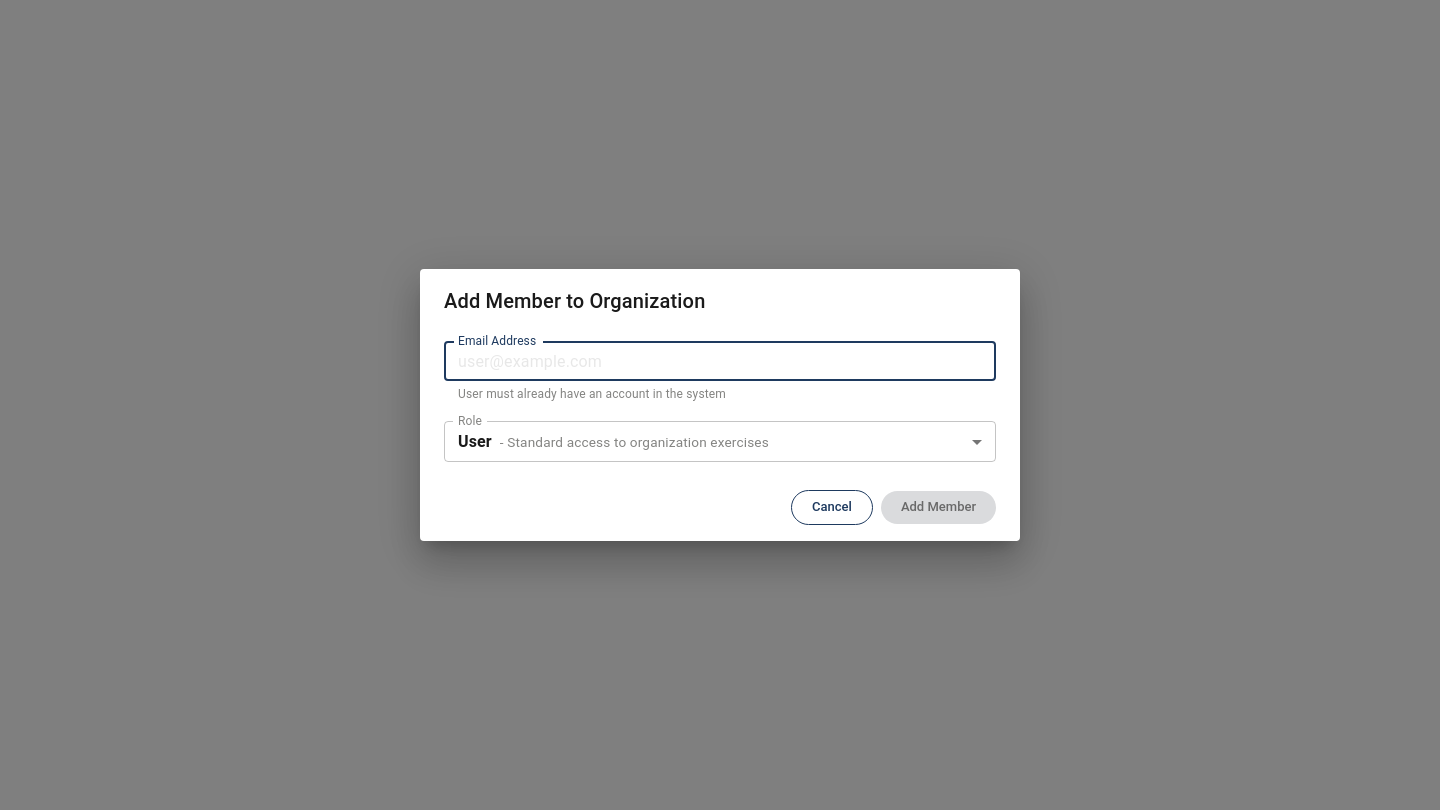
AddMemberDialog › Dialog Close › clears error when dialog is closed
Note: Trigger validation error with invalid email
In the field labelled "Email Address": (720, 361) x1=444 y1=341 x2=996 y2=381, type "invalidemail"
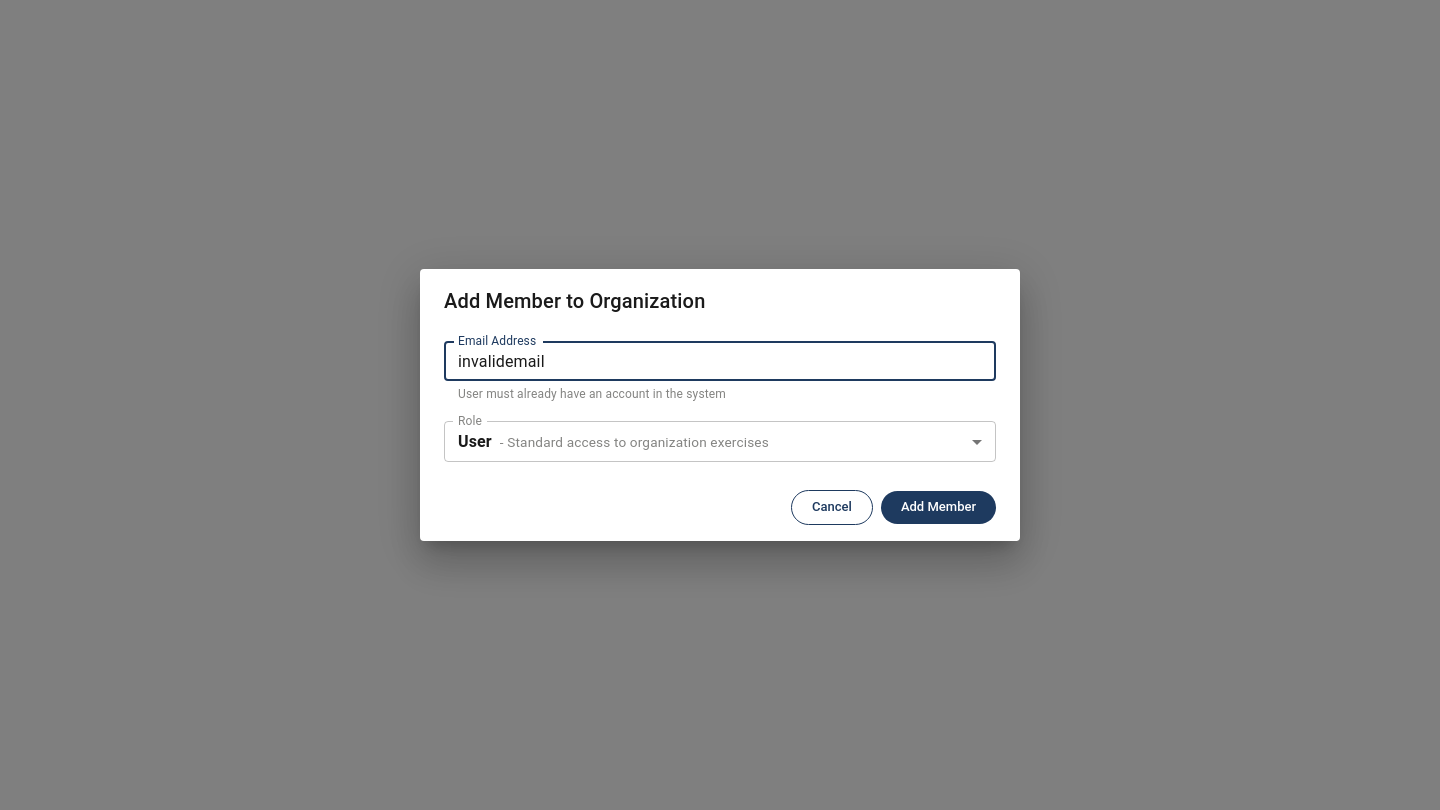
Click the button "Add Member": (938, 508) x1=881 y1=491 x2=996 y2=524
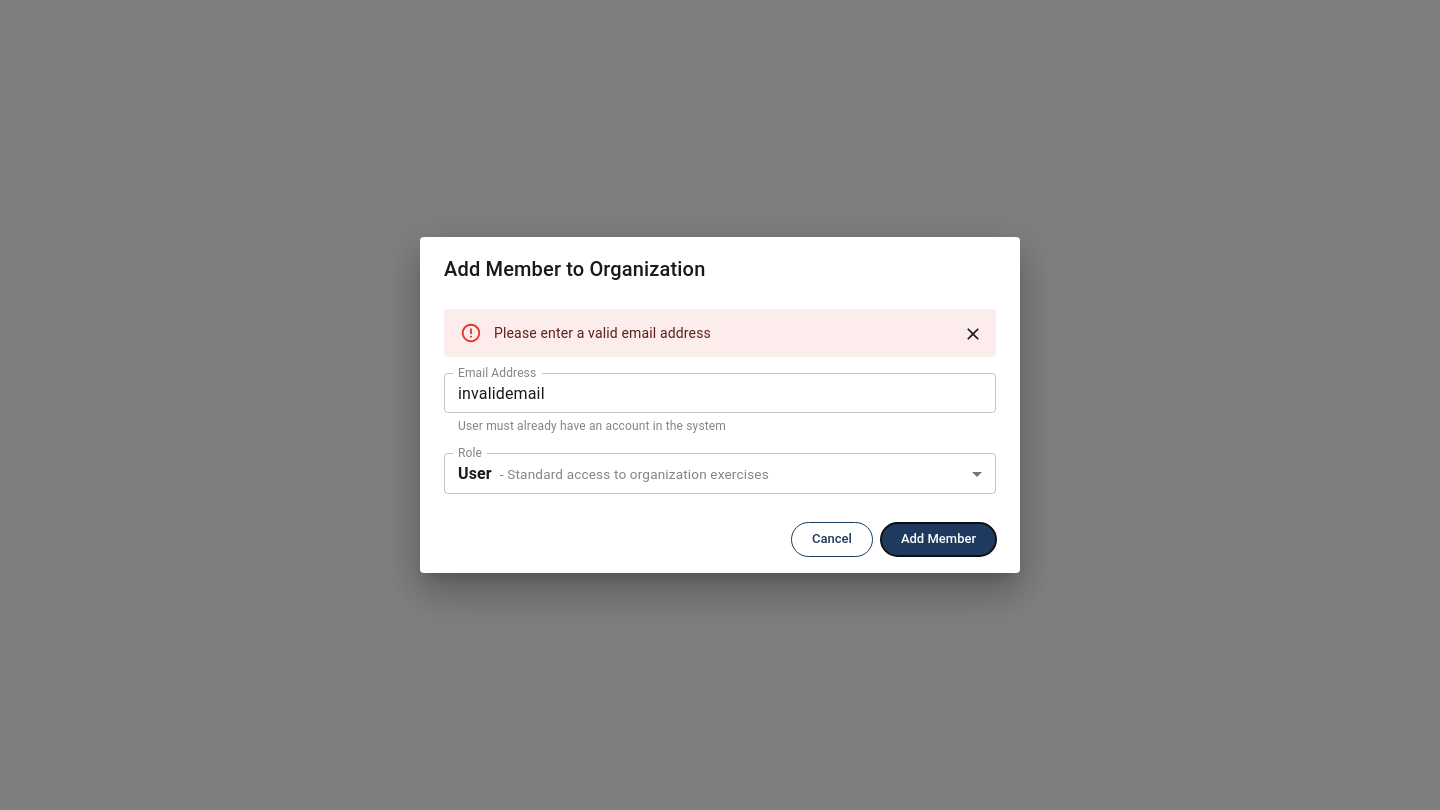
Expected: the text "Please enter a valid email address" is shown, x1=494 y1=325 x2=711 y2=341
Note: Close dialog
Click the button "Cancel": (832, 540) x1=791 y1=522 x2=873 y2=557
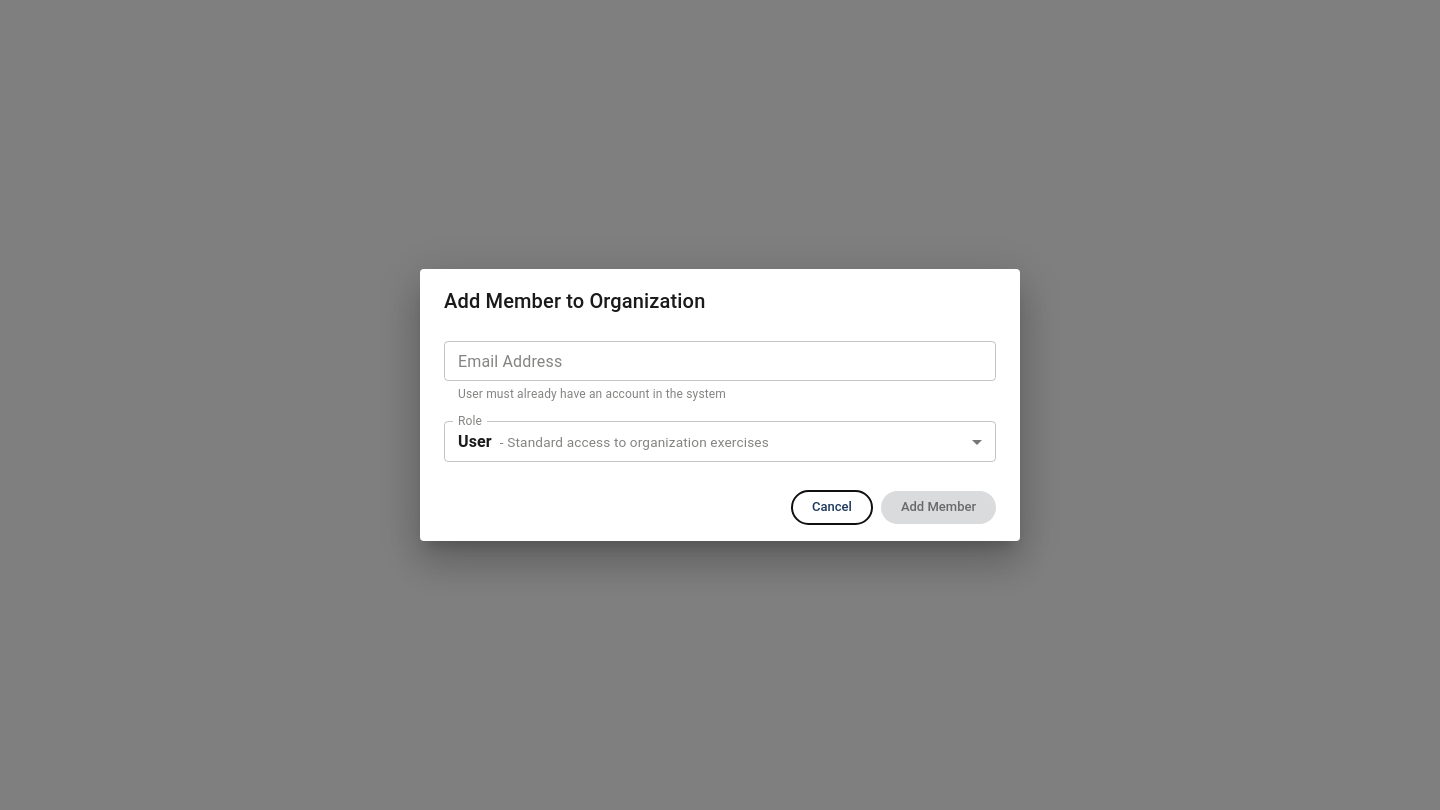
Expected: the text "Please enter a valid email address" is gone
